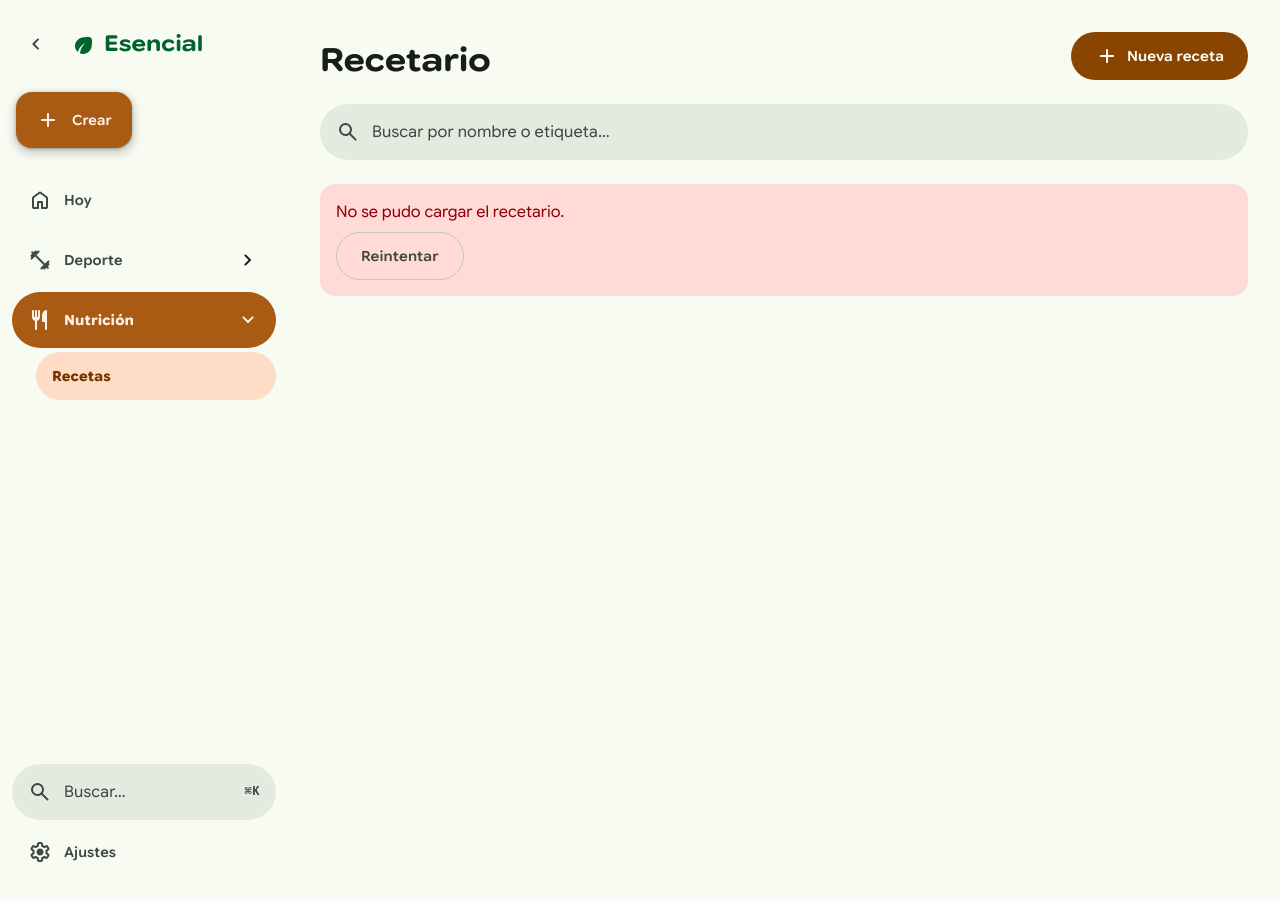
/recetario book › API error shows an error card with working retry
Click the button "Reintentar" at (400, 256), box 336,232 -> 464,280
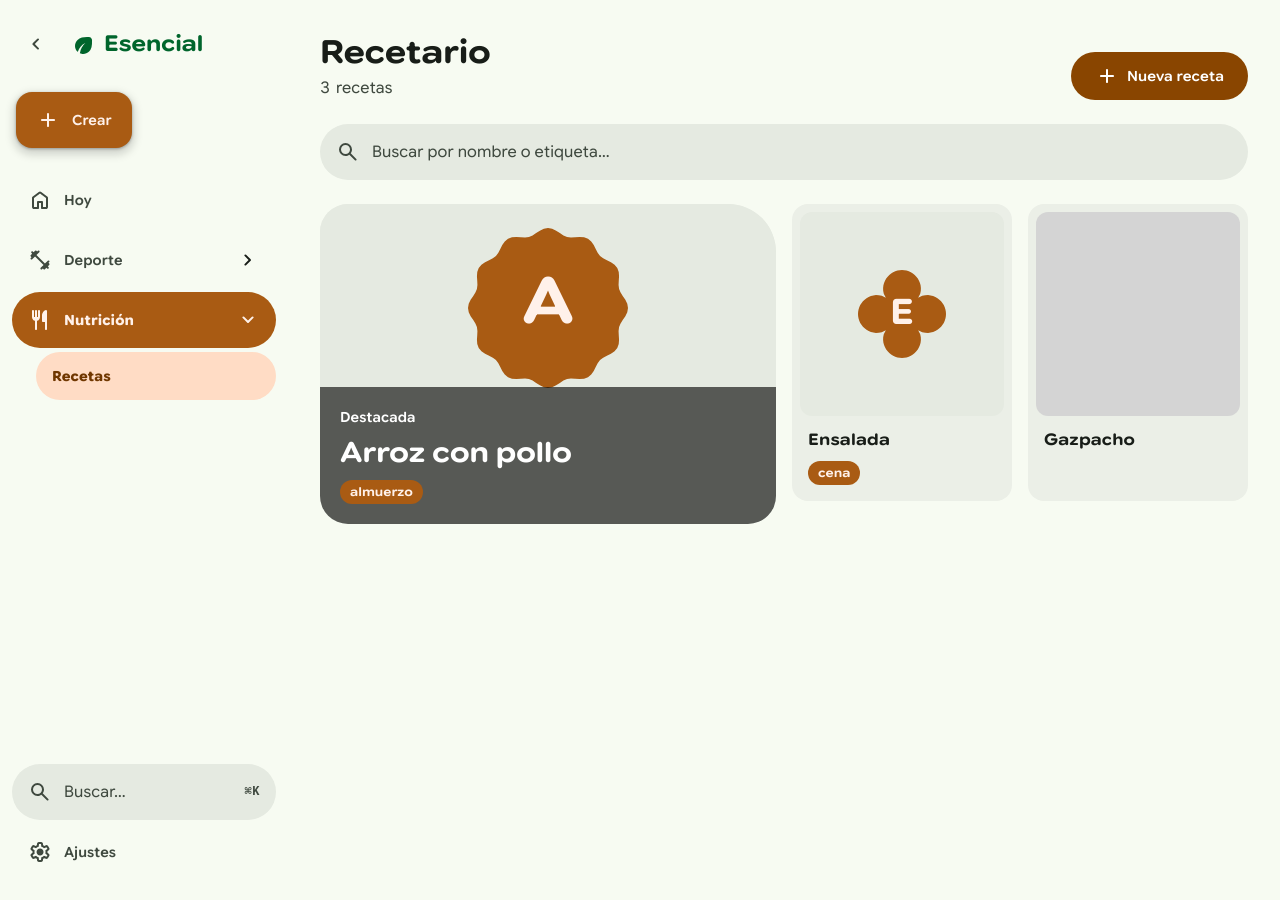
expect the text "Arroz con pollo" is shown: met, box 340,435 -> 572,470
